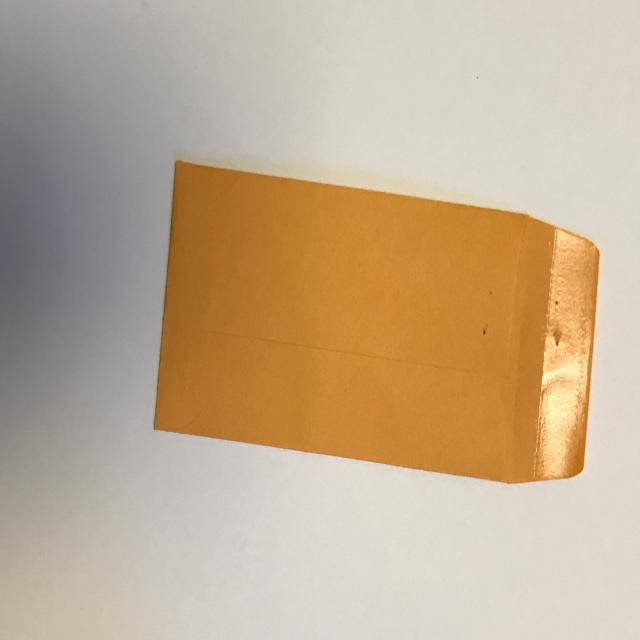paper: (146, 146, 609, 520)
